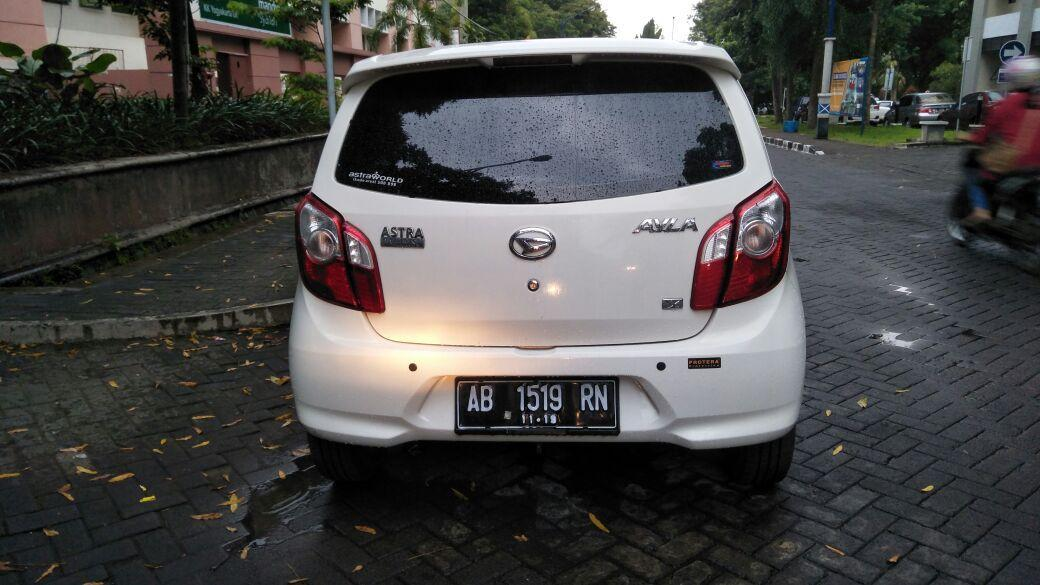clone-license-plate: (452, 371, 619, 434)
